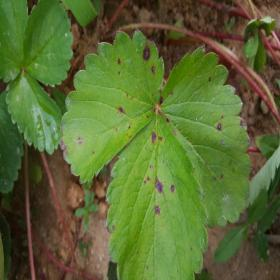Leaf Spot: (158, 43, 253, 230), (105, 111, 209, 279), (58, 28, 165, 184)
